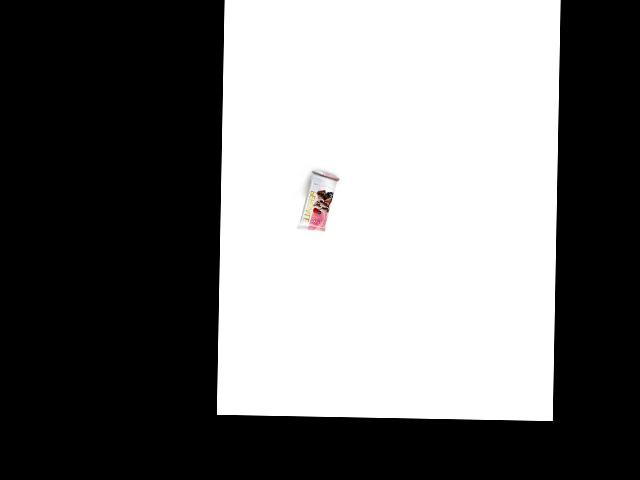chocolate: (297, 172, 340, 231)
